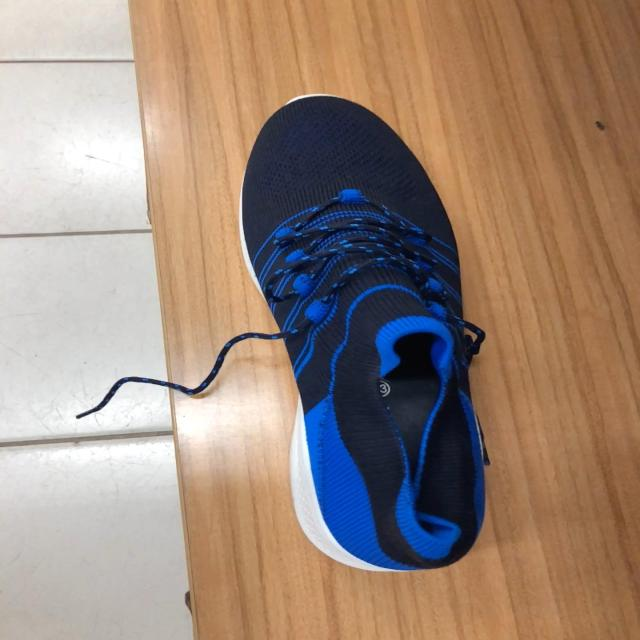shoe: (239, 94, 490, 575)
